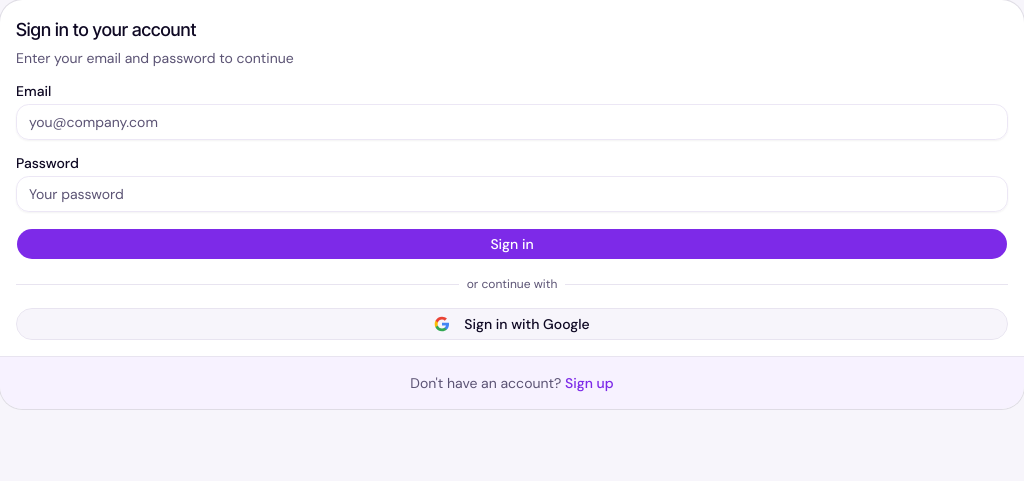
it: Login page › shows error state on failed login
Type "test@example.com" into the field labelled "Email" at (512, 122), box x1=16 y1=104 x2=1008 y2=140
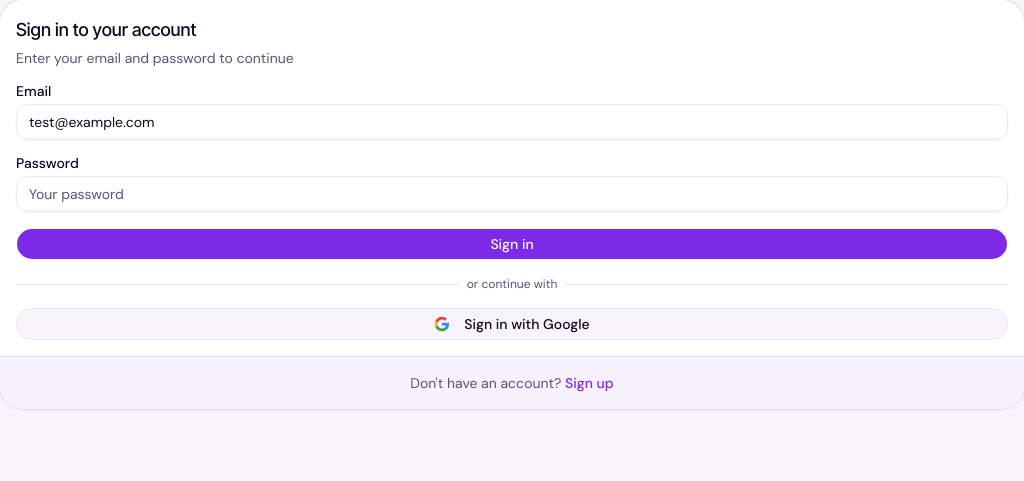
Type "wrongpassword" into the password field labelled "Password" at (512, 194), box x1=16 y1=176 x2=1008 y2=212
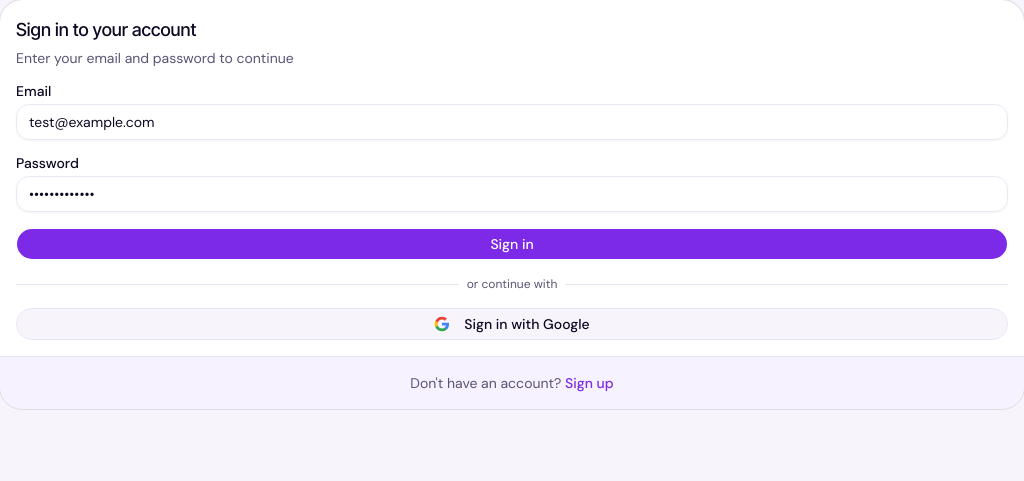
Click the button "Sign in" at (512, 244), box x1=16 y1=228 x2=1008 y2=260
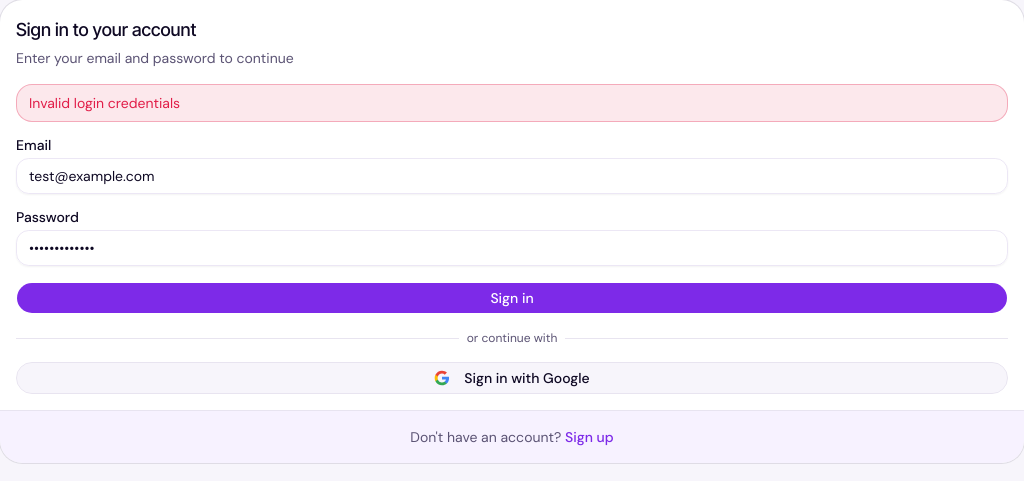
expect the message reads "Invalid login credentials": met, box x1=29 y1=94 x2=180 y2=112
